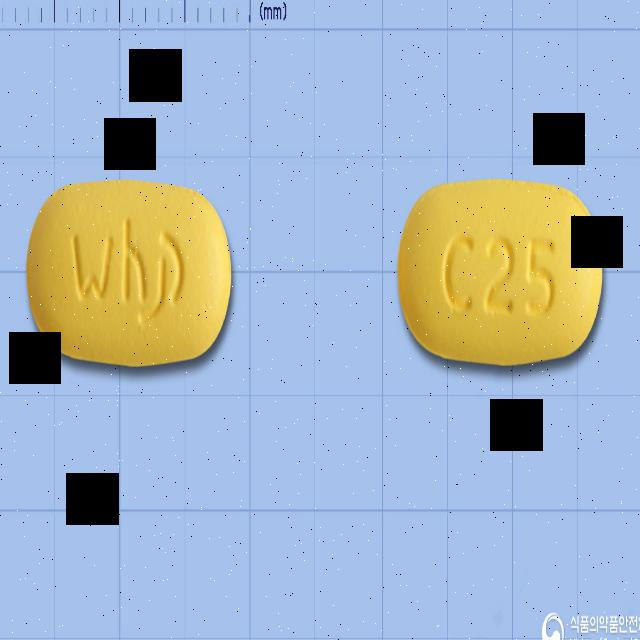Claton: (396, 173, 606, 371), (23, 177, 235, 368)
